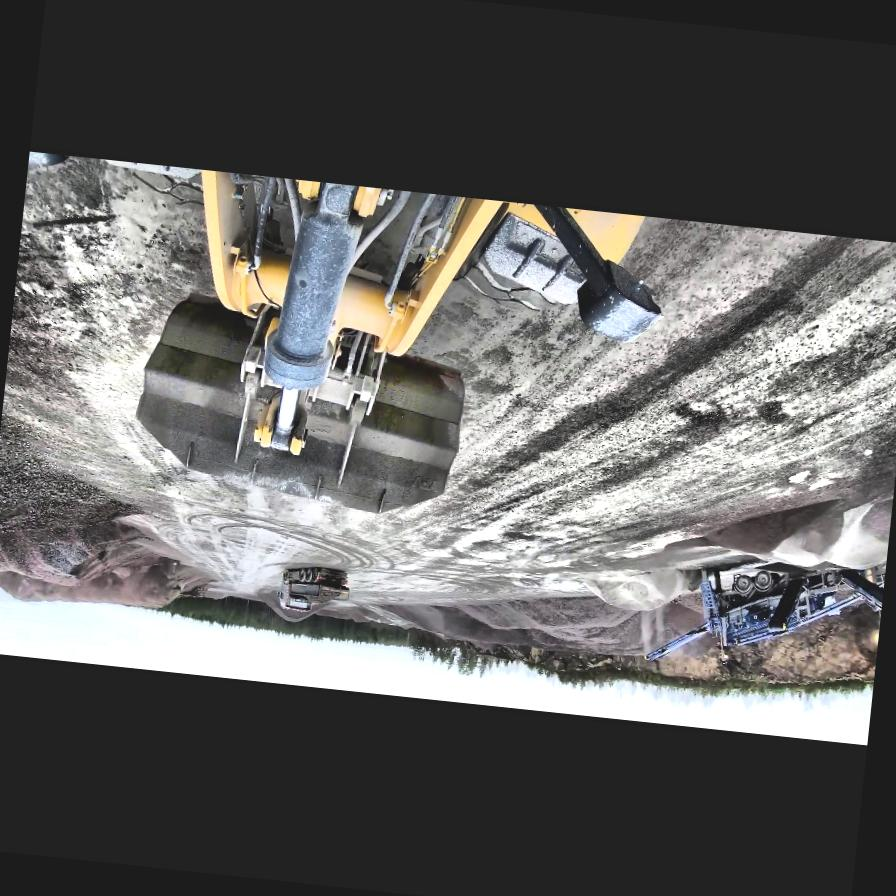anchor: (252, 387, 310, 456)
pile of gravel: (350, 572, 700, 672), (0, 483, 224, 622), (686, 480, 893, 580), (0, 431, 140, 554), (582, 558, 696, 616)
